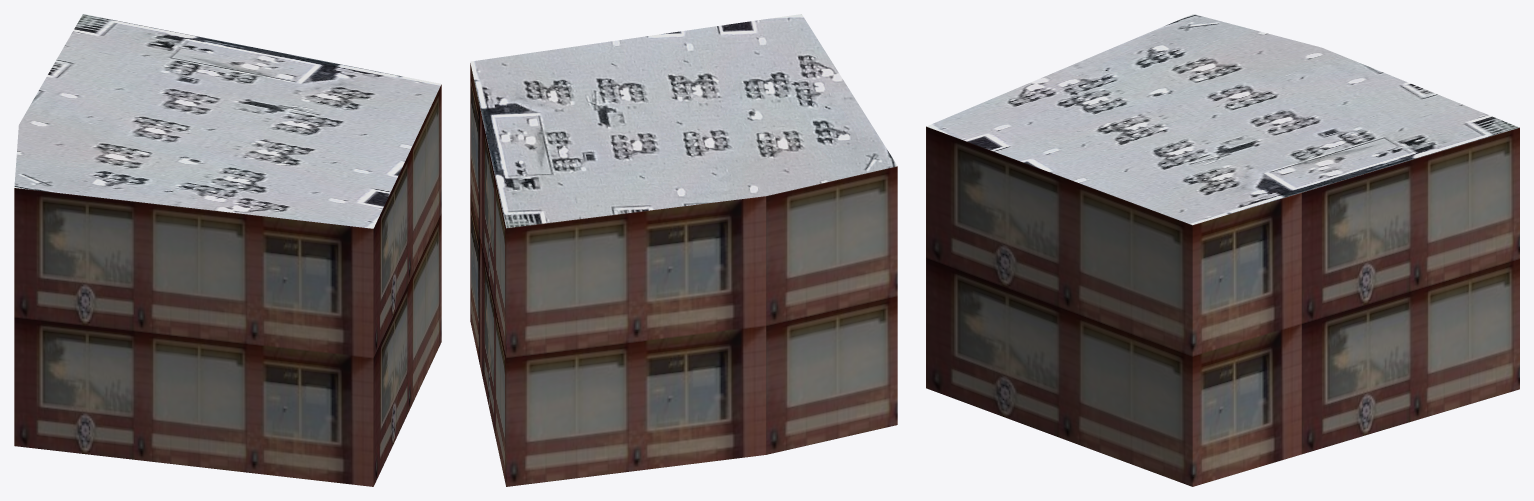
Rendered from ResTex__867.fbx.
The picture shows the model from 3 angles, left to right: view 1: azimuth 30°, elevation 25°; view 2: azimuth 150°, elevation 25°; view 3: azimuth 270°, elevation 25°; orthographic projection.
Parts seen in each view (by area): view 1: CityEngineMaterial_13_m, CityEngineMaterial_m; view 2: CityEngineMaterial_13_m, CityEngineMaterial_m; view 3: CityEngineMaterial_13_m, CityEngineMaterial_m.
Boxes of the visible parts, x1,y1,x2,y2 form: CityEngineMaterial_13_m: (14, 84, 441, 486); CityEngineMaterial_m: (14, 14, 441, 228); CityEngineMaterial_13_m: (470, 63, 897, 486); CityEngineMaterial_m: (470, 14, 897, 228); CityEngineMaterial_13_m: (926, 126, 1519, 486); CityEngineMaterial_m: (926, 14, 1519, 225).
Size of the model in its own units: 10.38 by 6 by 12.33.
2 materials, 2 textured.
